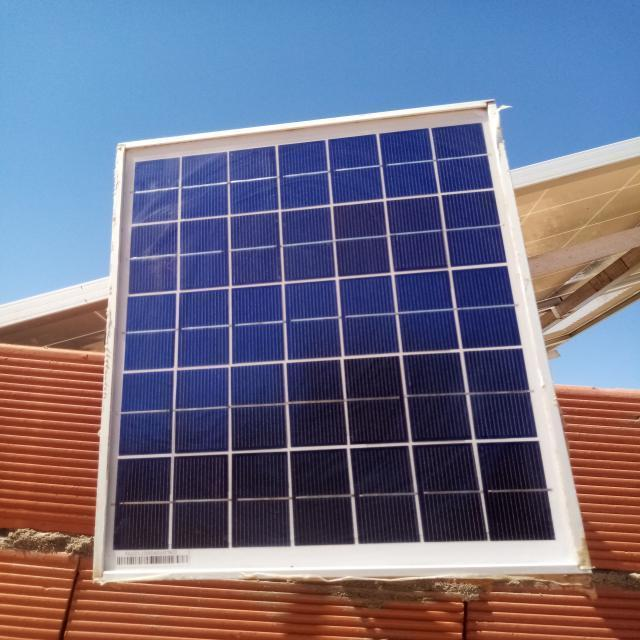Normal Solar Panel: (103, 100, 583, 575)
